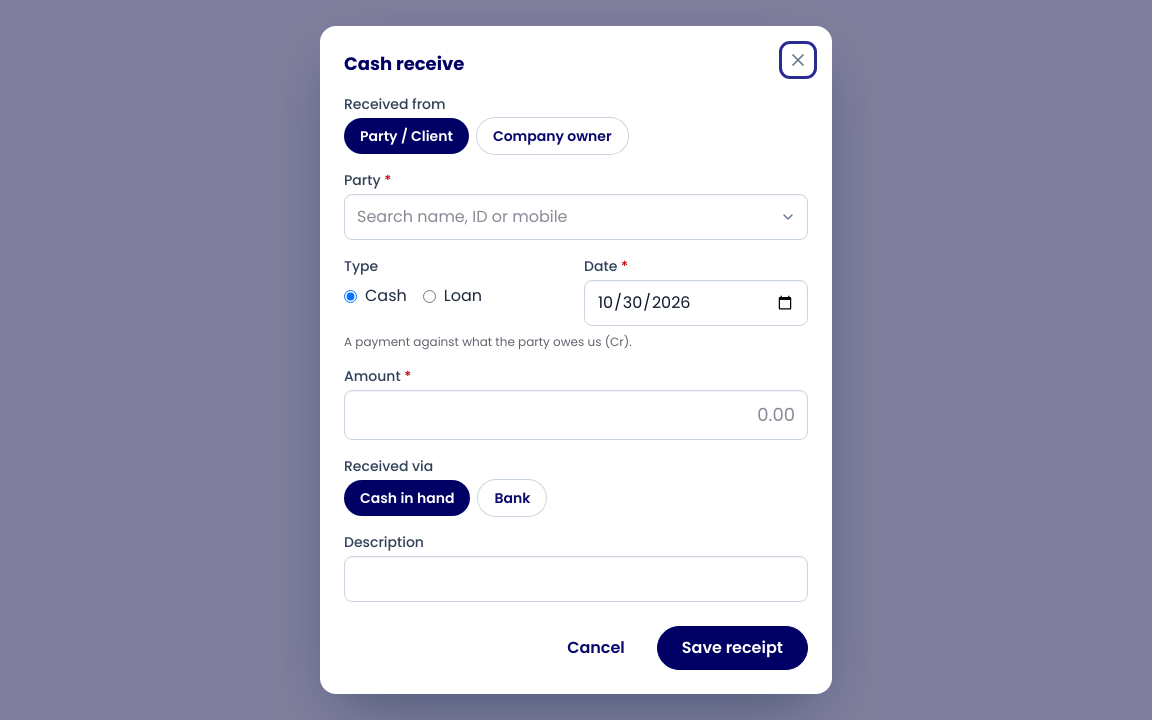
CashReceiptFormDialog › requires a payer and an amount, and the bank name and branch for a bank deposit
The image size is (1152, 720).
Step 1. Click the button "Bank" → (512, 498), box [478,480,546,516]
(page scrolled)
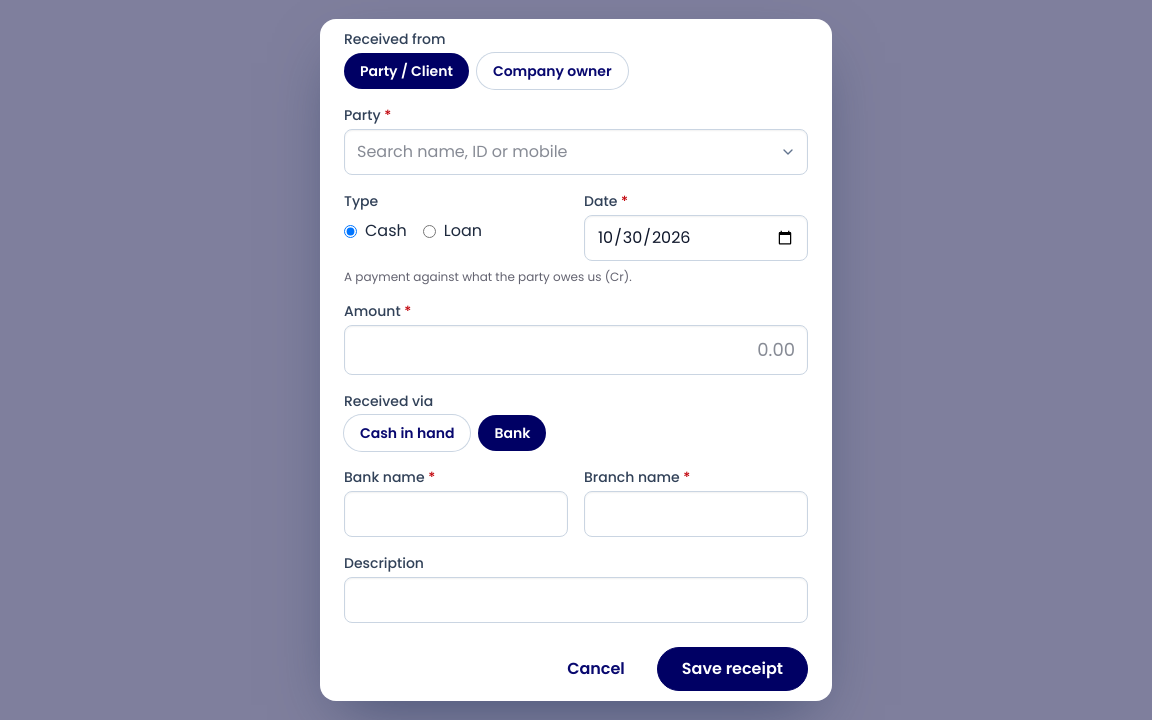
Step 2. Submit the form, box [344,29,808,691]
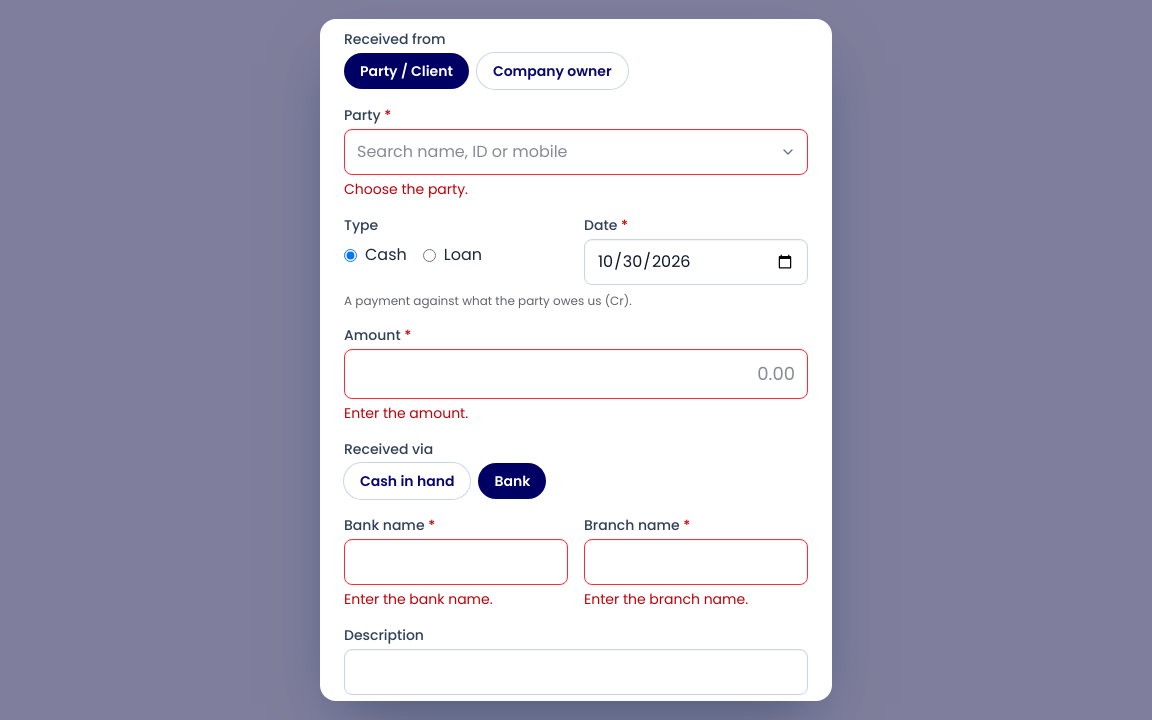
Check: the element showing "Party * Choose the party." is shown, box [344,105,808,199]
Check: the element showing "Amount * Enter the amount." is shown, box [344,325,808,423]
Check: the element showing "Bank name * Enter the bank name." is shown, box [344,515,568,609]
